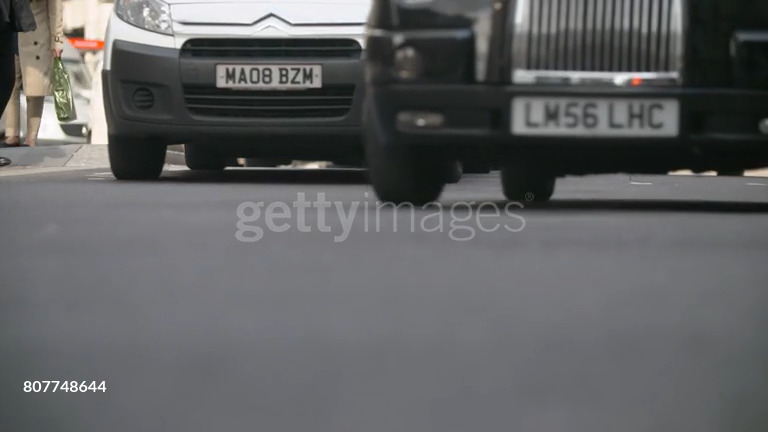car number: (511, 95, 678, 133), (214, 63, 321, 89)
